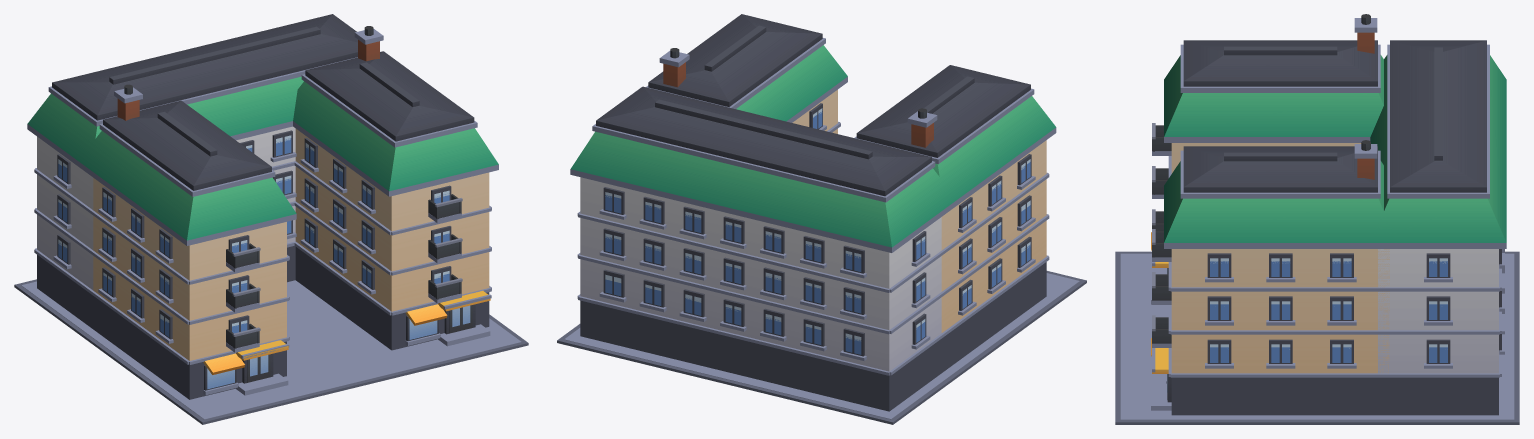
File: res_courtyard_mansard_2x2.glb
The picture shows the model from 3 angles, left to right: view 1: azimuth 30°, elevation 25°; view 2: azimuth 150°, elevation 25°; view 3: azimuth 270°, elevation 25°; orthographic projection. The views are drawn at different scales.
Visible parts, largest first — view 1: res_courtyard_mansard_2x2; view 2: res_courtyard_mansard_2x2; view 3: res_courtyard_mansard_2x2.
Boxes of the visible parts, left/top/right/bottom form: res_courtyard_mansard_2x2: left=14, top=14, right=528, bottom=424; res_courtyard_mansard_2x2: left=557, top=14, right=1086, bottom=424; res_courtyard_mansard_2x2: left=1115, top=14, right=1519, bottom=424.
Size of the model in its own units: 3.74 by 2.66 by 3.74.
Materials: 1 (1 with a texture image).
